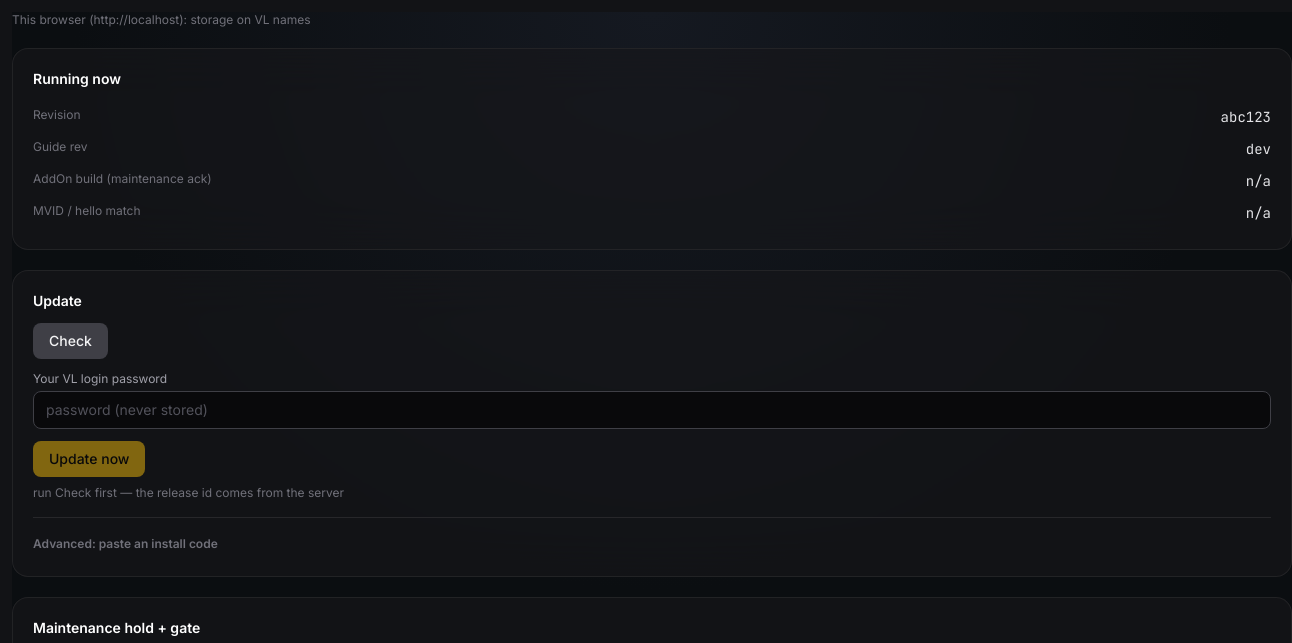
UpdatesPage › a wrong password renders the server refusal verbatim
Expected: the button "Update now" is shown, [33, 441, 146, 477]
Click the button with test id "check-button": (70, 341) [33, 323, 108, 359]
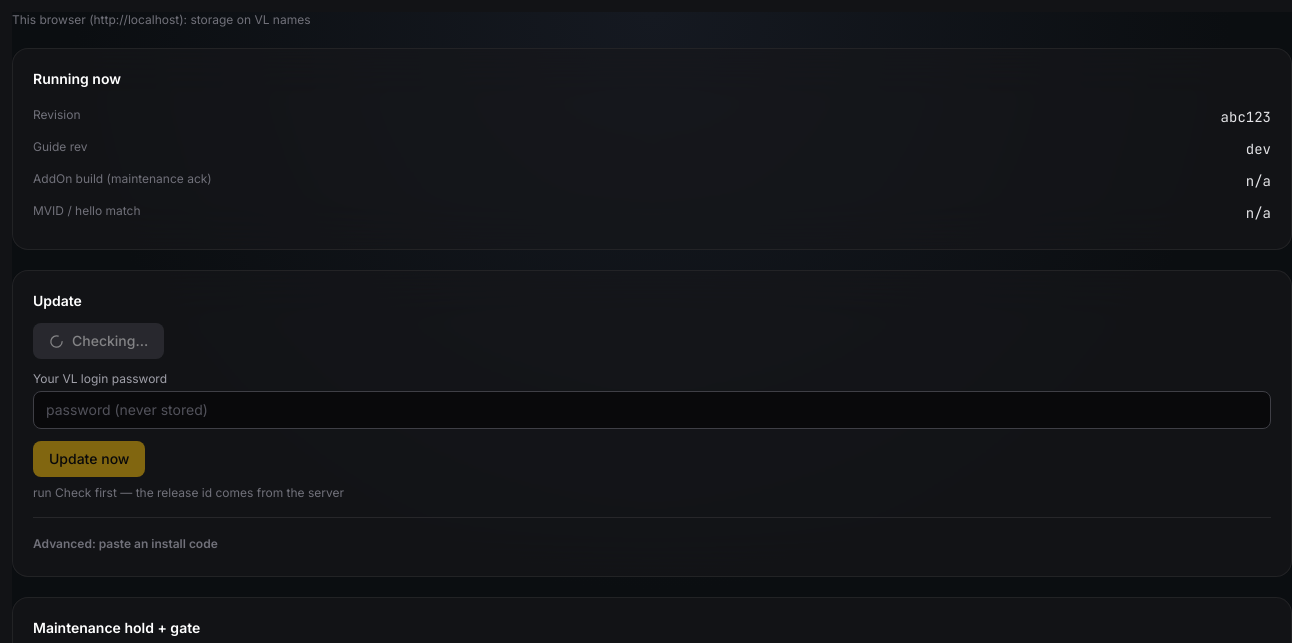
In the password field with test id "install-password": (652, 410) [33, 391, 1271, 429], type "wrong"
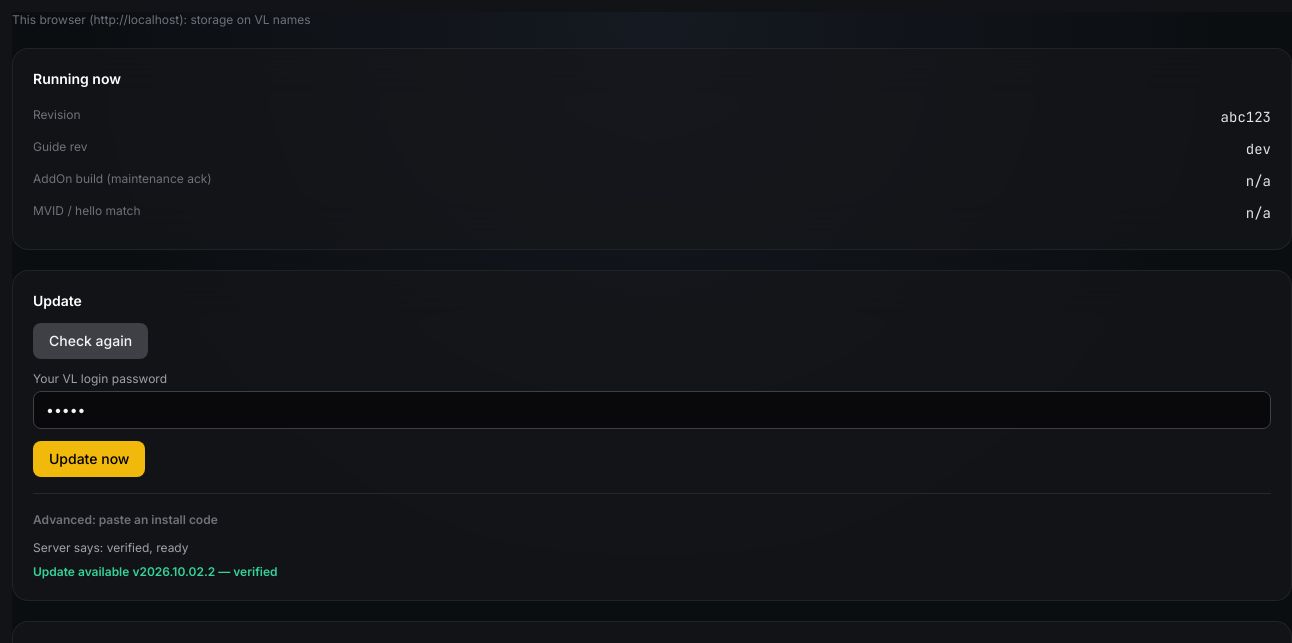
Expected: the button with test id "update-button" is enabled
Click the button with test id "update-button": (89, 459) [33, 441, 146, 477]
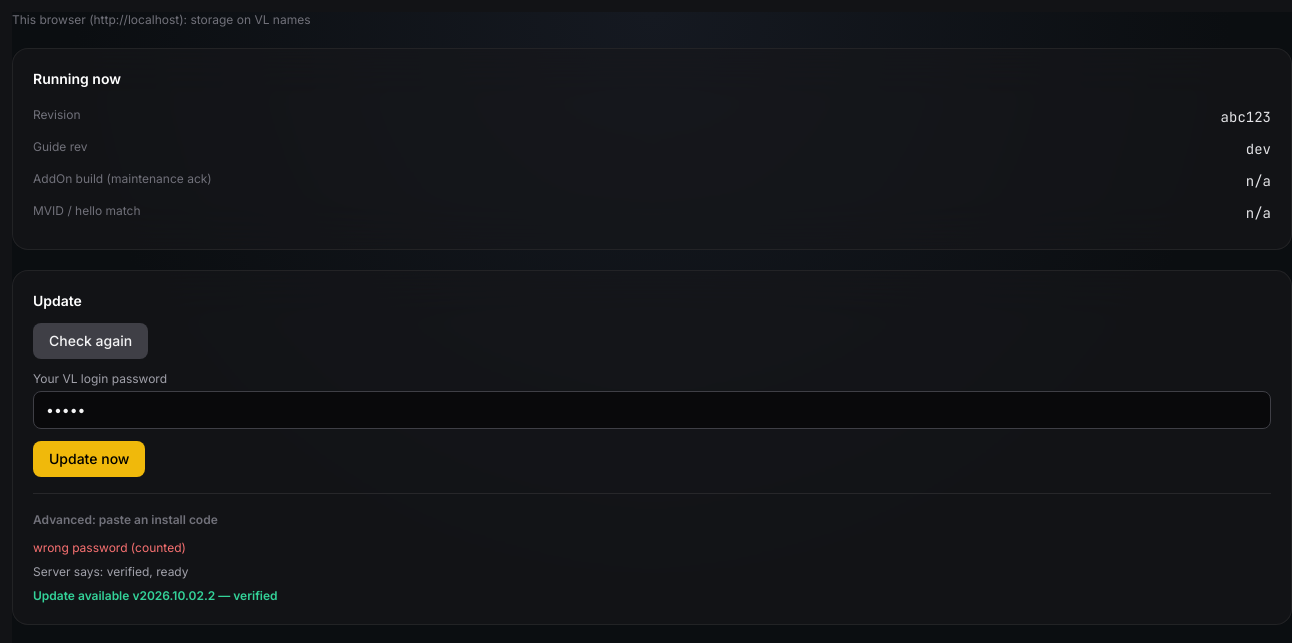
Expected: the text with test id "install-error" reads "wrong password (counted)", [33, 540, 186, 555]
